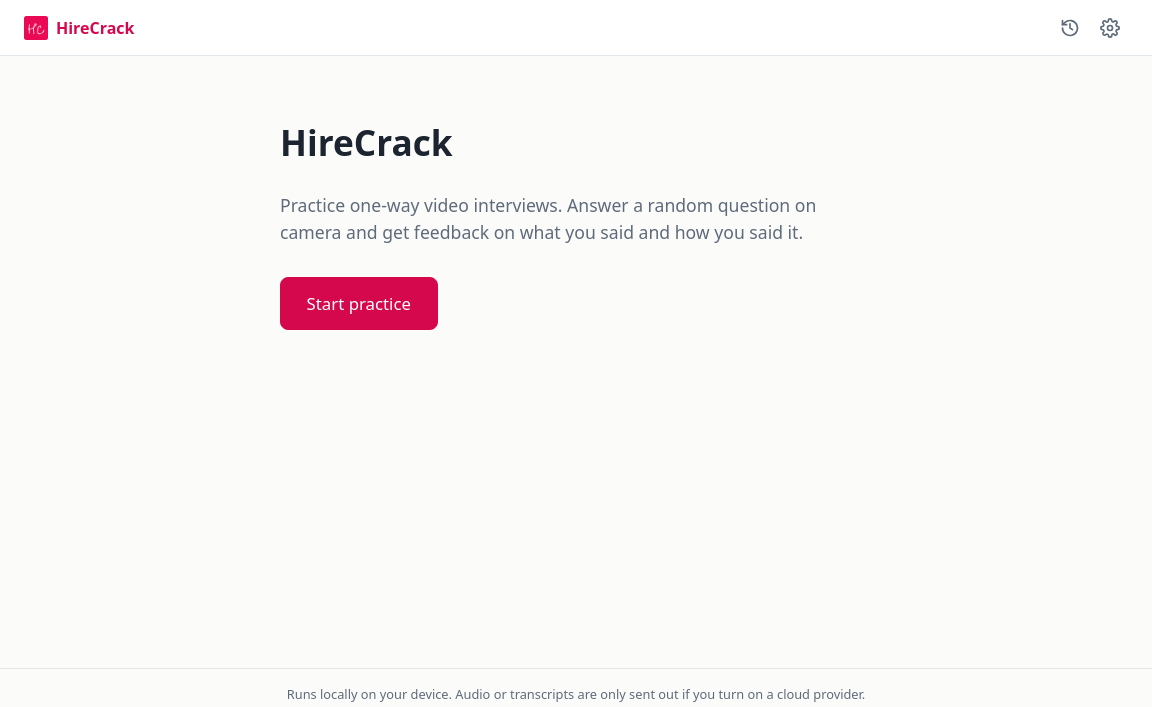
Scenario: History page › lists saved answers with their verdict and opens one in Results
The width and height of the screenshot is (1152, 707).
Click the button named "History". click: {"x": 1070, "y": 28}
box: [1052,10,1088,46]
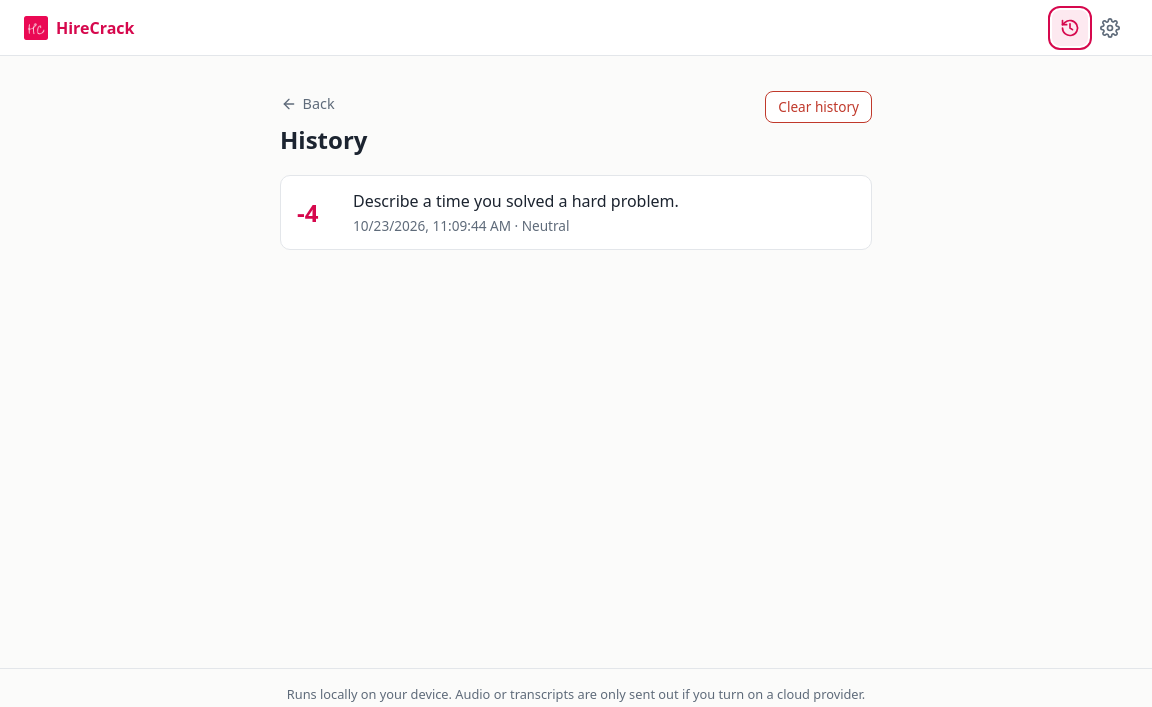
Expected: the button "Describe a time you solved a hard problem." shows "Neutral"
Click the button "Describe a time you solved a hard problem.". click: {"x": 576, "y": 213}
box: [280,175,872,250]
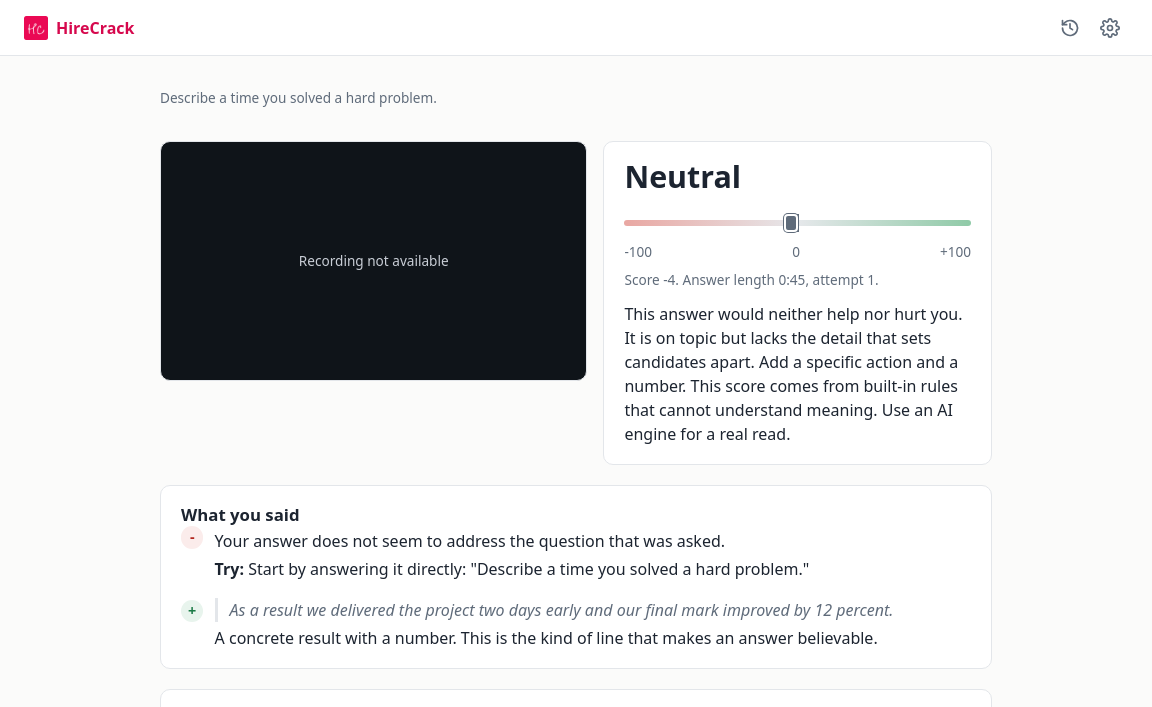
Expected: the text "Describe a time you solved a hard problem." is shown, [160,88,437,107]
